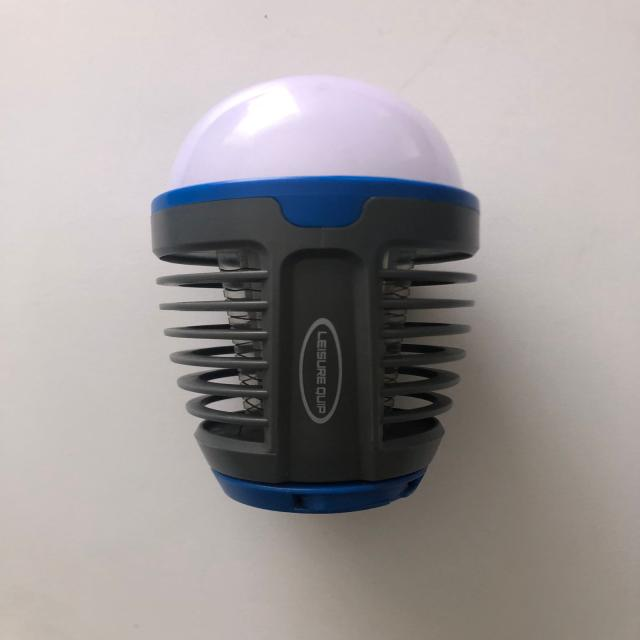Mosquito Killer: (148, 73, 482, 515)
